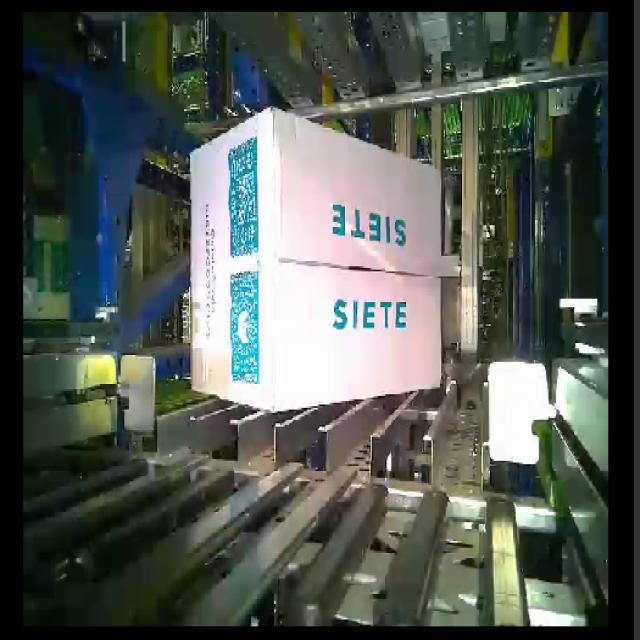box: (272, 104, 443, 413)
